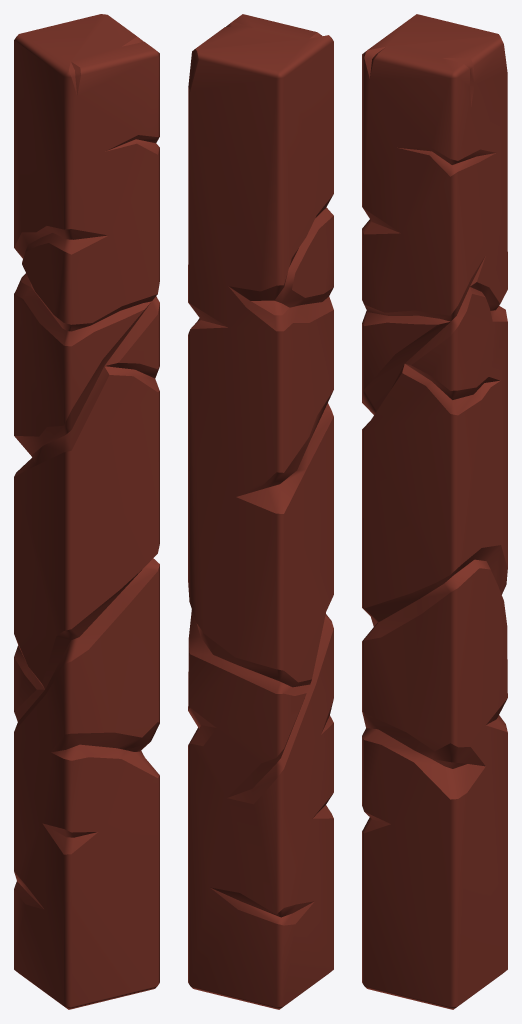
Rendered from pillar_004.fbx.
3 renders of one model, left to right at view 1: azimuth 30°, elevation 25°; view 2: azimuth 150°, elevation 25°; view 3: azimuth 330°, elevation 25°, orthographic.
Parts seen in each view (by area): view 1: pillar_004; view 2: pillar_004; view 3: pillar_004.
Boxes of the visible parts, x1,y1,x2,y2 form: pillar_004: (14, 14, 159, 1009); pillar_004: (188, 14, 333, 1009); pillar_004: (362, 14, 507, 1009).
Bounding box in the file's own units: 200 × 200 × 1869.
